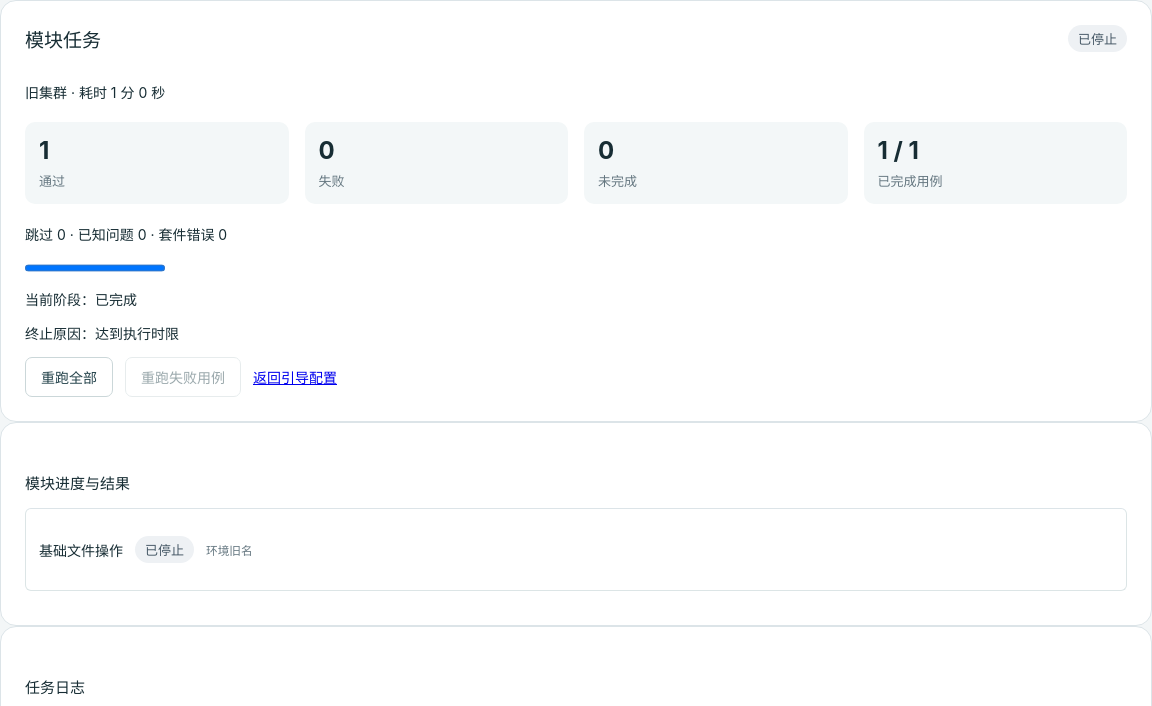
Test: timeout cause is visible in parent and child during cancelled
The width and height of the screenshot is (1152, 706).
Expected: the text "终止原因：达到执行时限" is shown, x1=25 y1=325 x2=179 y2=342
Click the text "基础文件操作": (81,550) x1=39 y1=540 x2=123 y2=560
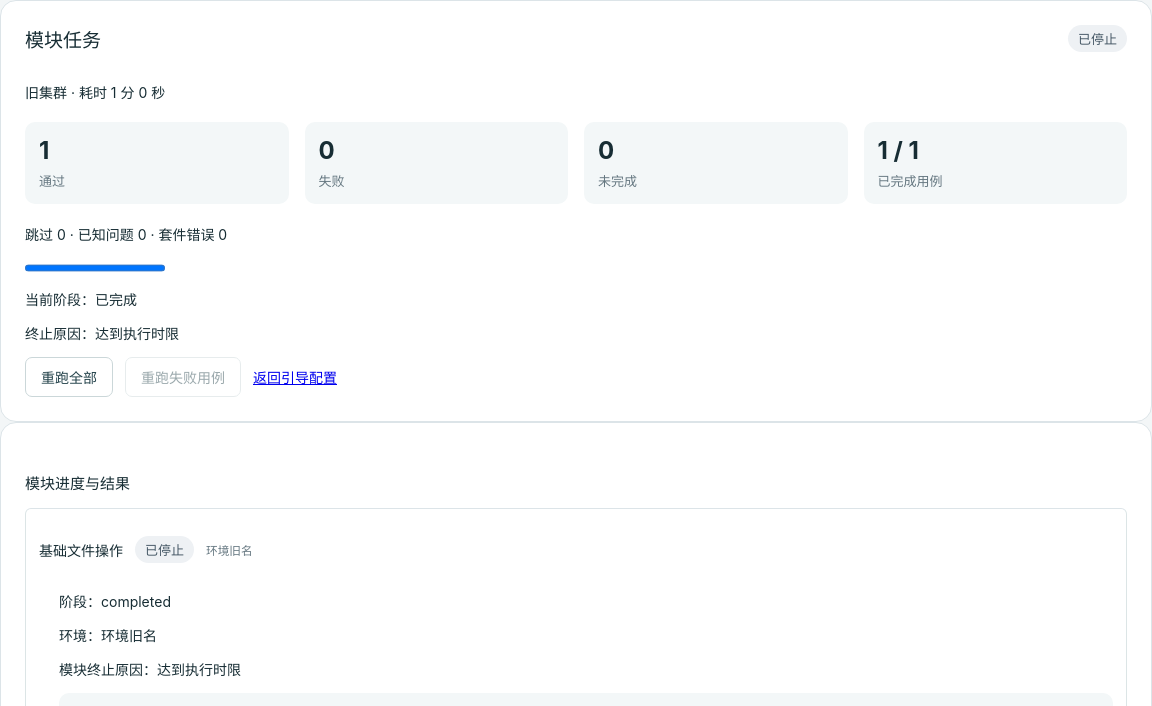
Expected: the text "模块终止原因：达到执行时限" is shown, x1=59 y1=661 x2=241 y2=678
